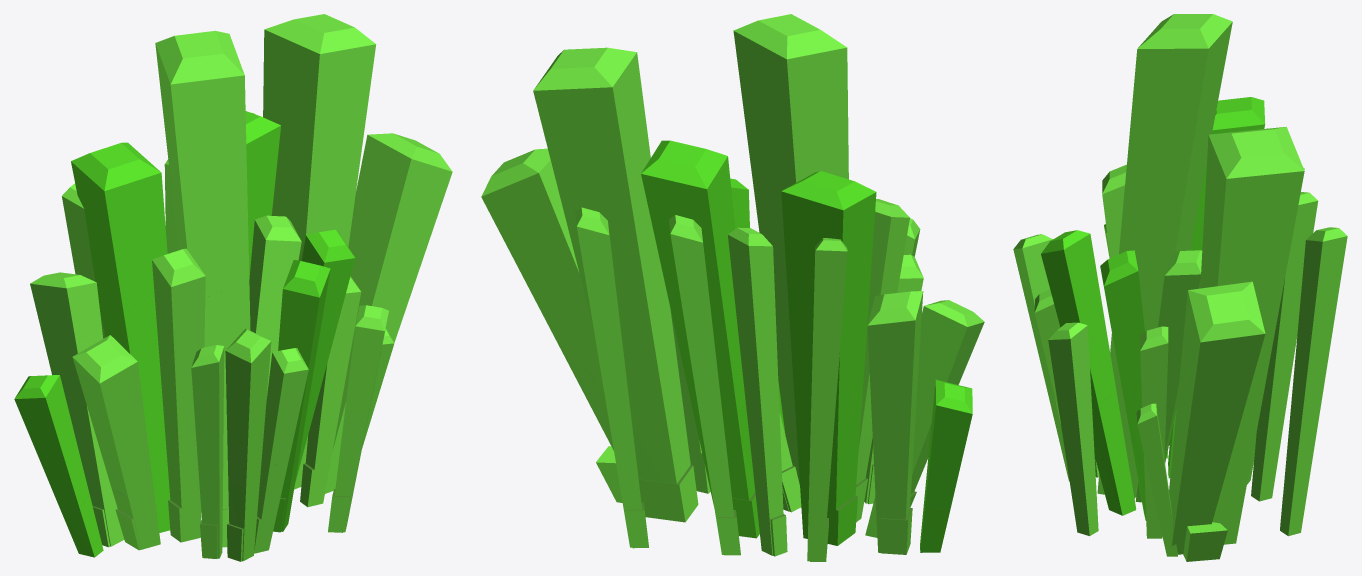
The model's file is CristalSet.fbx.
The picture shows the model from 3 angles, left to right: view 1: azimuth 30°, elevation 25°; view 2: azimuth 150°, elevation 25°; view 3: azimuth 270°, elevation 25°; orthographic projection. The views are drawn at different scales.
Visible parts, largest first — view 1: Cristal1, Cristal2, Cristal3, Cristal4, Cristal5, Cristal6; view 2: Cristal1, Cristal3, Cristal4, Cristal2, Cristal6, Cristal5; view 3: Cristal1, Cristal2, Cristal3, Cristal5, Cristal4, Cristal6.
Part boxes in pixels (x1,y1,x2,y2): Cristal1: (14, 14, 452, 556); Cristal2: (16, 31, 386, 552); Cristal3: (14, 163, 394, 557); Cristal4: (25, 229, 388, 560); Cristal5: (59, 347, 392, 561); Cristal6: (92, 463, 349, 561); Cristal1: (481, 14, 977, 556); Cristal3: (549, 199, 982, 555); Cristal4: (566, 220, 971, 561); Cristal2: (576, 15, 984, 544); Cristal6: (596, 446, 916, 561); Cristal5: (556, 339, 949, 555); Cristal1: (1022, 14, 1347, 556); Cristal2: (1013, 14, 1345, 554); Cristal3: (1025, 234, 1319, 552); Cristal5: (1049, 400, 1319, 556); Cristal4: (1043, 254, 1299, 530); Cristal6: (1096, 440, 1282, 561).
Bounding box in the file's own units: 1.36 × 1.4 × 0.9028.
